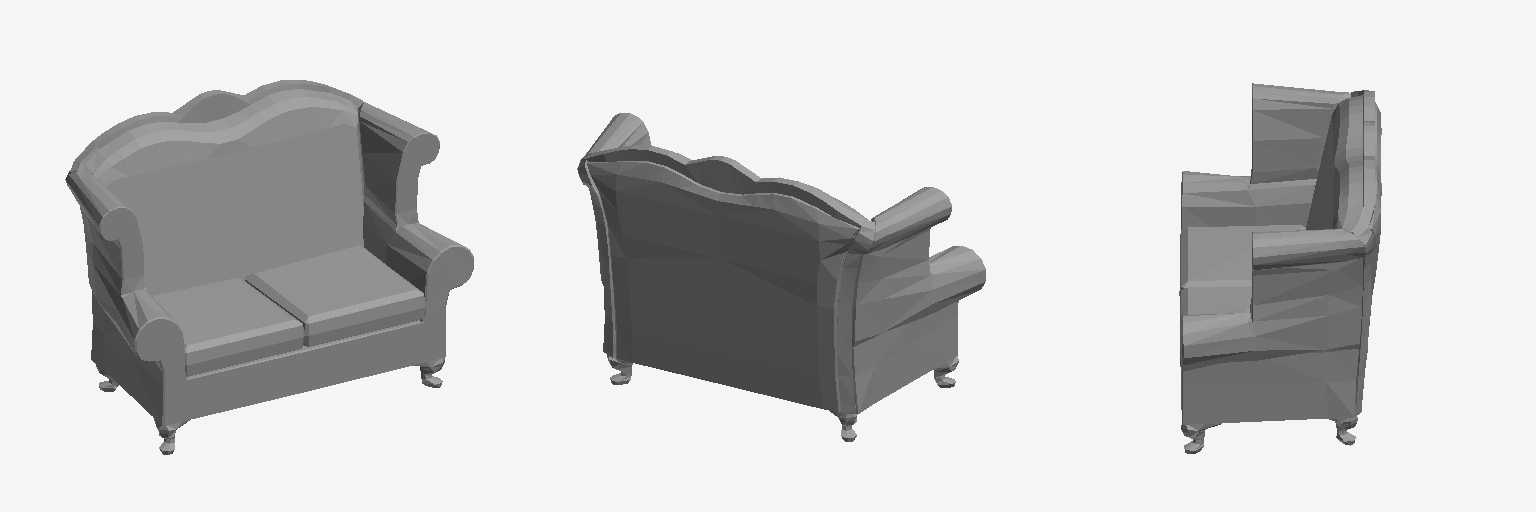
The model's file is arm-chair.obj.
3 views of the same model, side by side, from view 1: azimuth 30°, elevation 25°; view 2: azimuth 150°, elevation 25°; view 3: azimuth 270°, elevation 25° (orthographic).
Visible parts, largest first — view 1: default; view 2: default; view 3: default.
Part boxes in pixels (left/top/right/bottom): default: left=65, top=80, right=473, bottom=454; default: left=577, top=113, right=985, bottom=441; default: left=1179, top=83, right=1381, bottom=453.
Bounding box in the file's own units: 81.02 × 59.11 × 41.78.